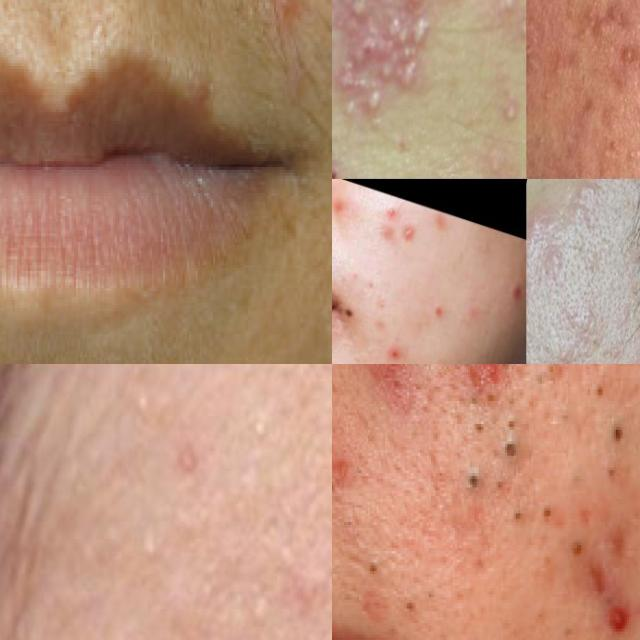acne_scars: (610, 37, 640, 84)
milium: (230, 381, 303, 453), (123, 510, 169, 590), (121, 364, 167, 433)
papule: (380, 199, 402, 225)
pustule: (353, 0, 448, 113)
